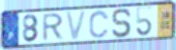5: (135, 5, 156, 38)
8: (22, 14, 39, 43)
C: (88, 10, 110, 40)
R: (41, 12, 65, 42)
S: (111, 8, 133, 39)
V: (64, 9, 89, 42)
